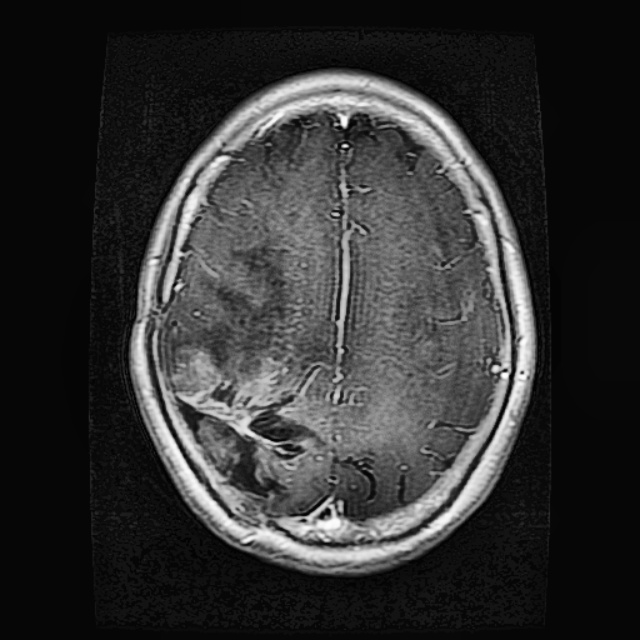Glioma: (167, 343, 317, 505)
